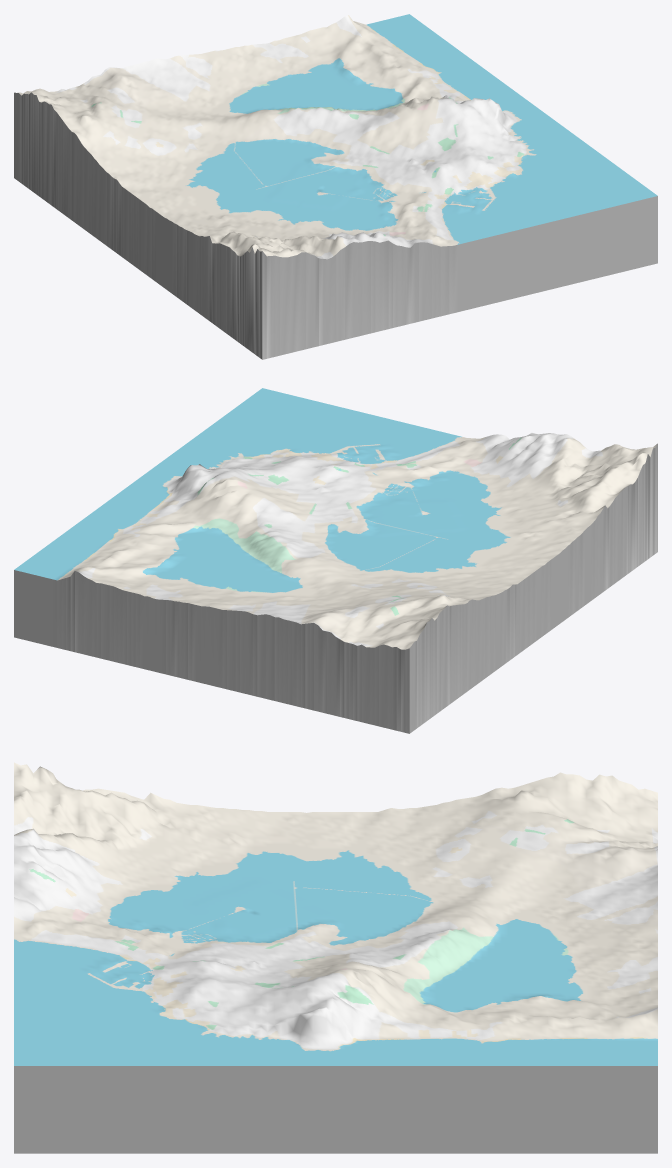
File: map.glb
3 renders of one model, top to bottom at view 1: azimuth 30°, elevation 25°; view 2: azimuth 150°, elevation 25°; view 3: azimuth 270°, elevation 25°, orthographic. The views are drawn at different scales.
Parts seen in each view (by area): view 1: Terrain_DEM_tile, Terrain_DEM_tile.002; view 2: Terrain_DEM_tile, Terrain_DEM_tile.002; view 3: Terrain_DEM_tile, Terrain_DEM_tile.002.
Boxes of the visible parts, x1,y1,x2,y2 form: Terrain_DEM_tile: (17,14,657,259); Terrain_DEM_tile.002: (14,92,657,359); Terrain_DEM_tile: (14,388,657,649); Terrain_DEM_tile.002: (14,443,657,733); Terrain_DEM_tile: (14,762,657,1065); Terrain_DEM_tile.002: (14,1066,657,1153).
Bounding box in the file's own units: 0.7165 × 0.1885 × 0.7795.
1 material, 1 textured.
